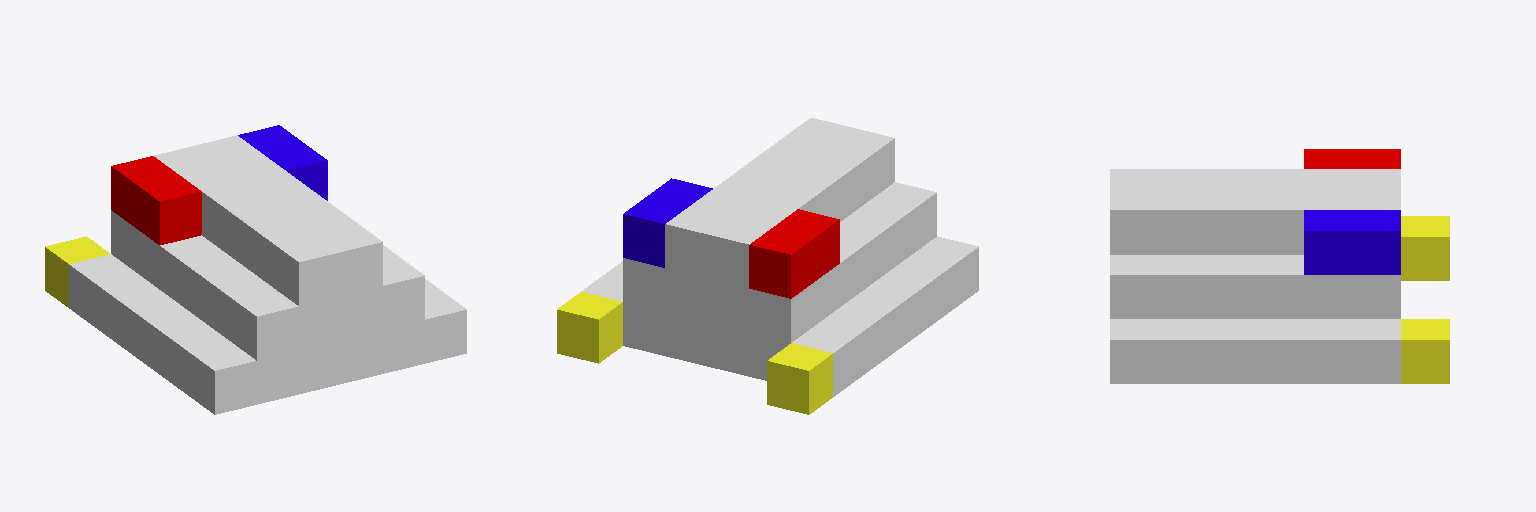
3 renders of one model, left to right at view 1: azimuth 30°, elevation 25°; view 2: azimuth 150°, elevation 25°; view 3: azimuth 270°, elevation 25°, orthographic.
Visible parts, largest first — view 1: object 1; view 2: object 1; view 3: object 1.
Boxes of the visible parts, <box> form: object 1: <box>45,125,466,414</box>; object 1: <box>557,118,978,414</box>; object 1: <box>1110,149,1449,383</box>.
Bounding box in the file's own units: 0.6 × 0.3 × 0.7.
1 materials, 1 textured.